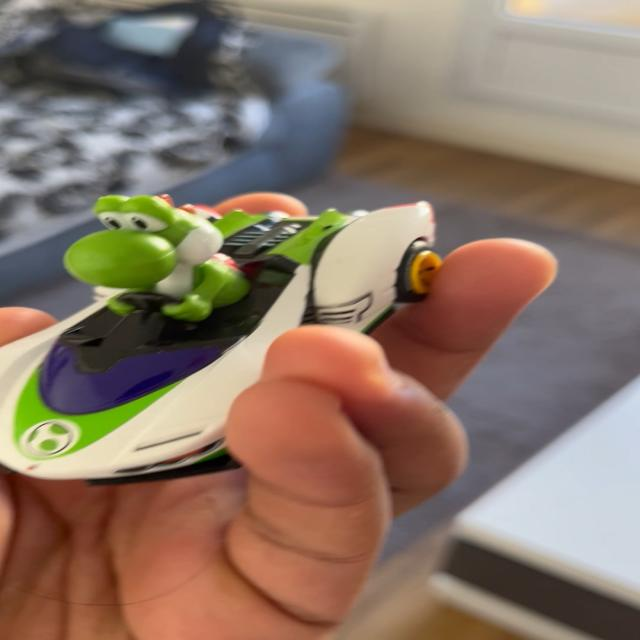yoshi: (4, 163, 479, 497)
